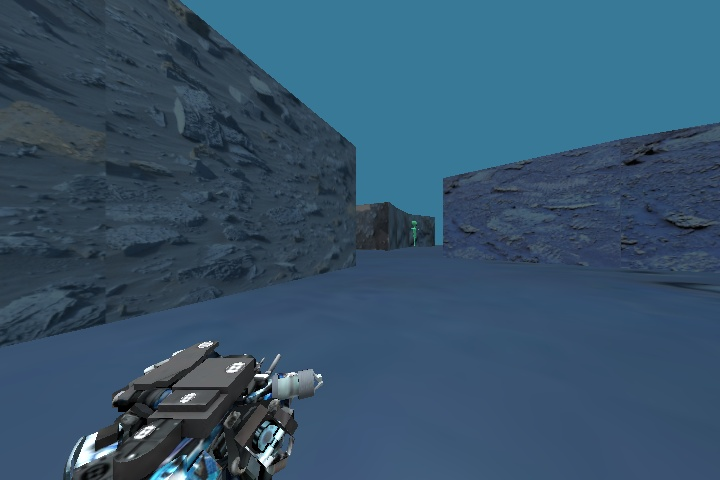green_alien: (406, 217, 425, 250)
